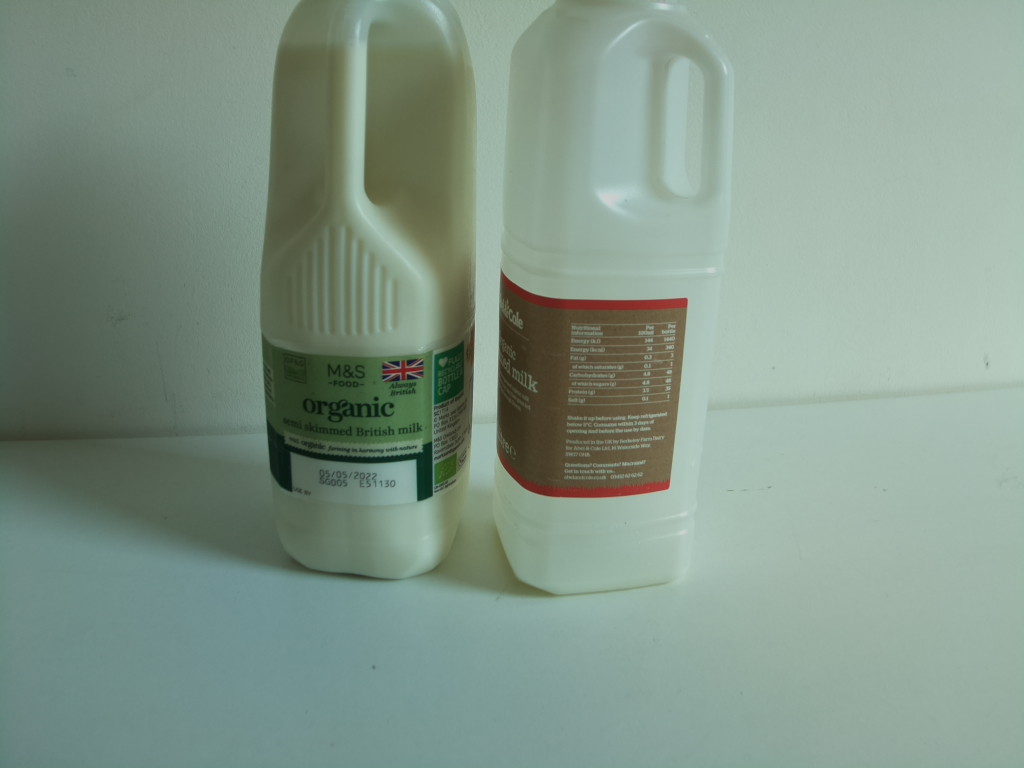milk: (494, 1, 736, 594), (256, 1, 480, 577)
